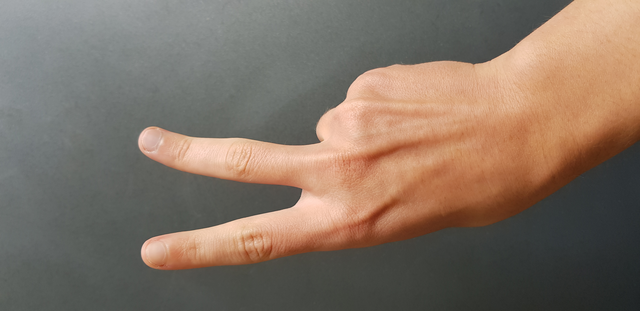Scissors: (104, 36, 571, 287)
